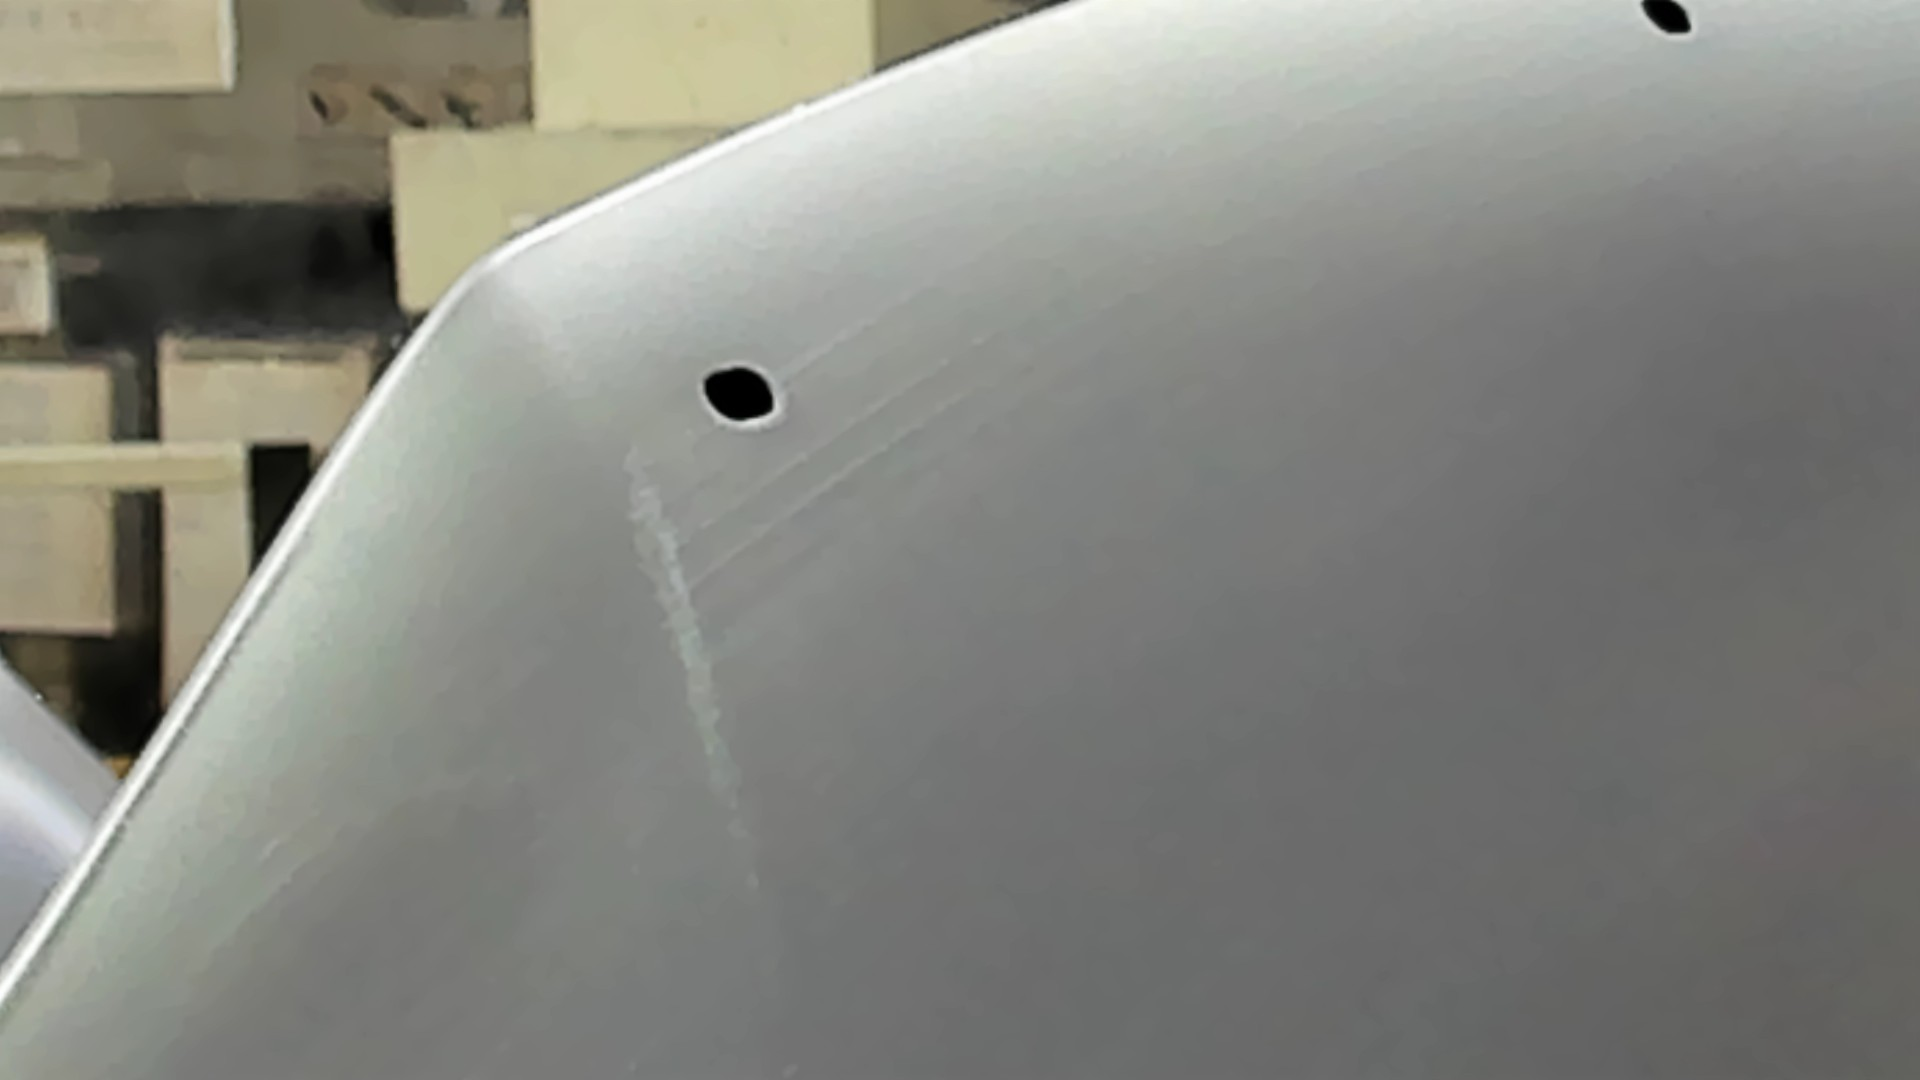amorfo: (696, 359, 787, 431), (1630, 1, 1702, 41)
